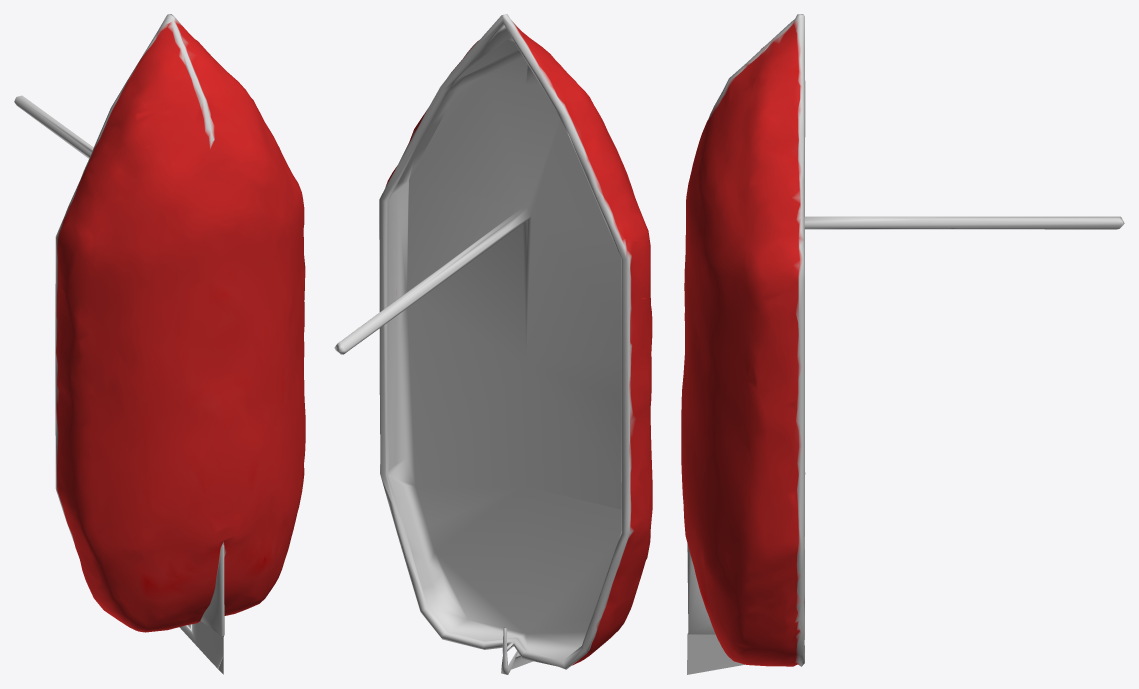
Rendered from boatv02.fbx.
3 views of the same model, side by side, from view 1: azimuth 30°, elevation 25°; view 2: azimuth 150°, elevation 25°; view 3: azimuth 270°, elevation 25° (orthographic). The views are drawn at different scales.
Visible parts, largest first — view 1: boatv21_1; view 2: boatv21_1; view 3: boatv21_1.
Part boxes in pixels (x1,y1,x2,y2): boatv21_1: (14,14,305,674); boatv21_1: (334,14,652,674); boatv21_1: (681,14,1124,674).
Size of the model in its own units: 0.1254 by 0.1927 by 0.3164.
